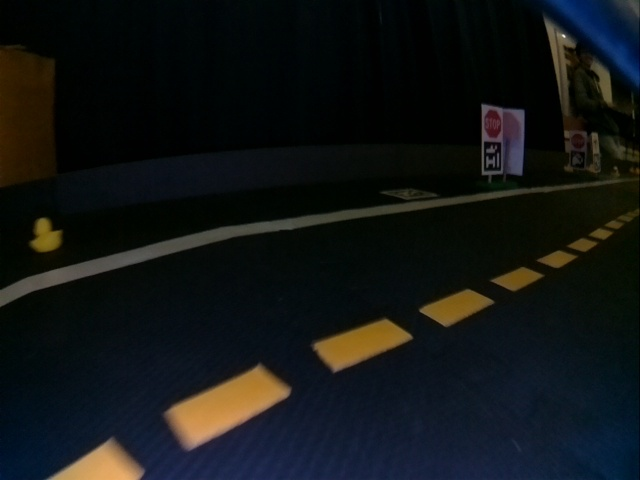Duckie: (32, 219, 62, 251)
QR code: (382, 188, 436, 200), (483, 141, 501, 173), (572, 151, 586, 169)
Stop sign: (485, 110, 501, 138), (570, 133, 585, 149)
